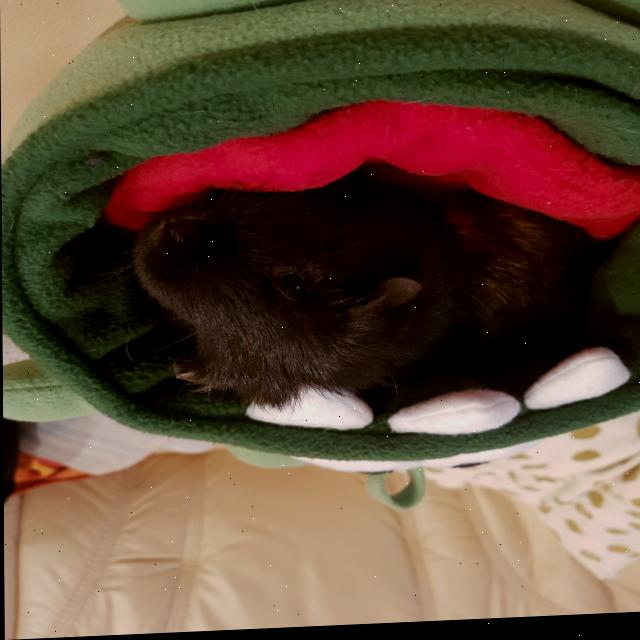guinea pig: (129, 166, 592, 422)
